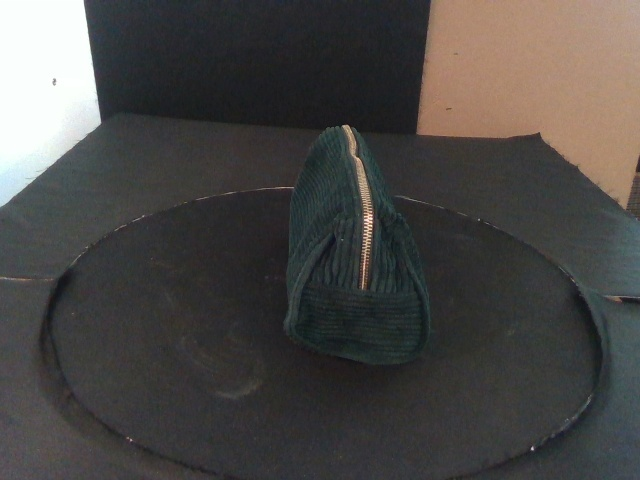pencil_case: (287, 124, 431, 362)
